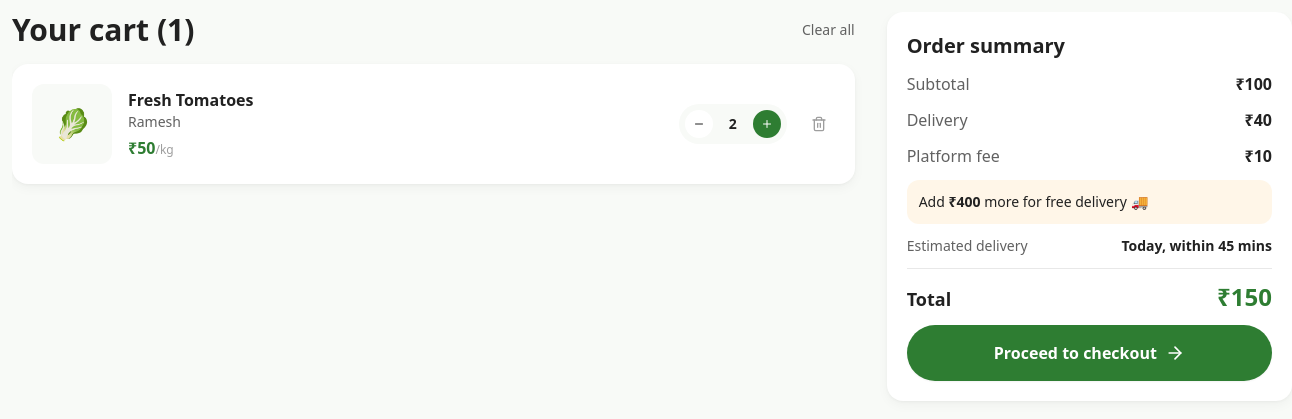
Test case: CartPage — Quantity controls › decrements quantity when − is clicked
Click the button with test id "qty-decrease": (699, 124) [685,110,713,138]
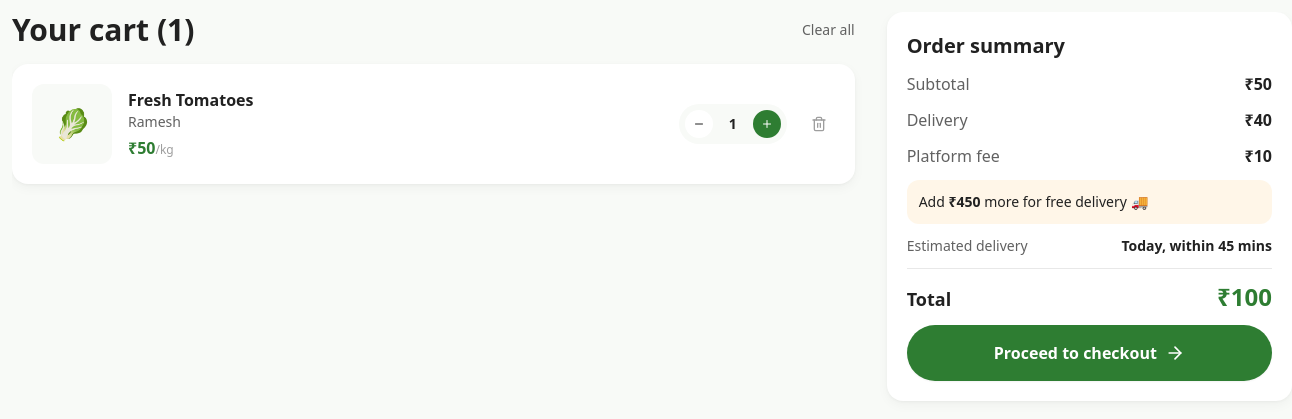
Now the text with test id "qty-value" reads "1", box [729,114,737,133]
